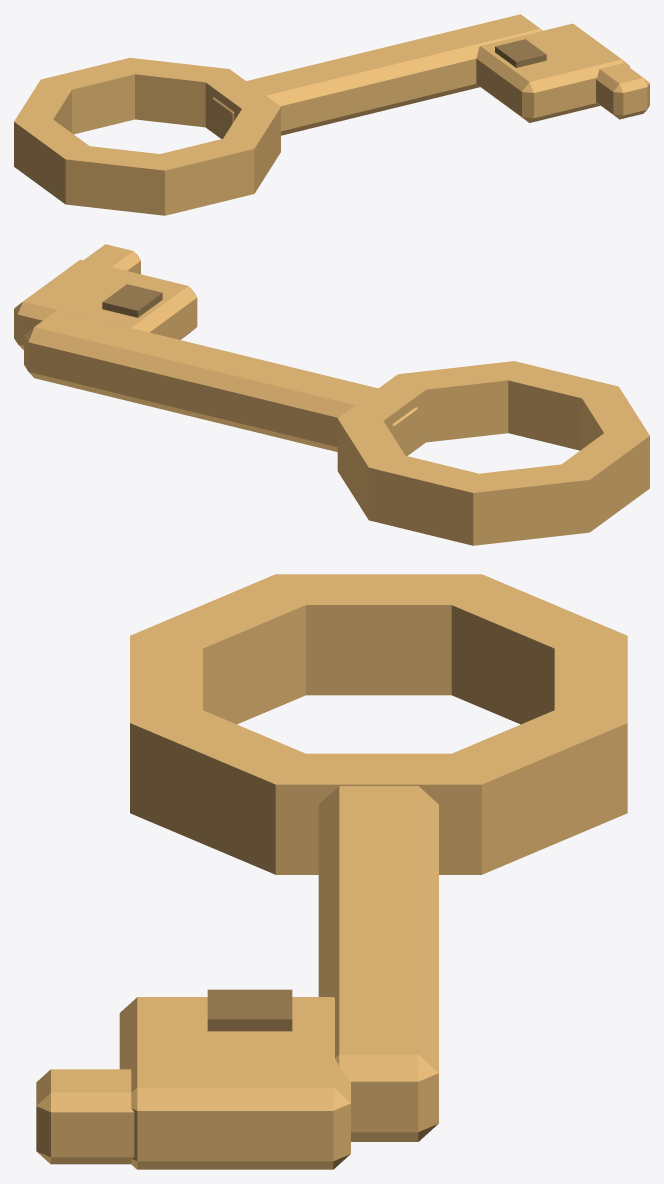
The model's file is cle_salle_cartes.glb.
The picture shows the model from 3 angles, top to bottom: view 1: azimuth 30°, elevation 25°; view 2: azimuth 150°, elevation 25°; view 3: azimuth 270°, elevation 25°; orthographic projection. The views are drawn at different scales.
Visible parts, largest first — view 1: Anneau octogonal, Tige, Panneton, Dent, Rainure; view 2: Anneau octogonal, Tige, Panneton, Rainure, Dent; view 3: Anneau octogonal, Tige, Panneton, Dent, Rainure.
Part boxes in pixels (box(x1,y1,x2,y2)): Anneau octogonal: box(14, 57, 280, 215); Tige: box(212, 14, 542, 135); Panneton: box(476, 23, 629, 122); Dent: box(596, 63, 649, 119); Rainure: box(495, 39, 546, 67); Anneau octogonal: box(337, 361, 649, 545); Tige: box(24, 310, 417, 451); Panneton: box(14, 259, 197, 349); Rainure: box(102, 284, 162, 317); Dent: box(84, 244, 140, 274); Anneau octogonal: box(130, 574, 627, 874); Tige: box(318, 786, 438, 1141); Panneton: box(119, 997, 350, 1169); Dent: box(36, 1069, 134, 1164); Rainure: box(207, 989, 292, 1031).
Bounding box in the file's own units: 0.4175 × 0.037 × 0.202.
